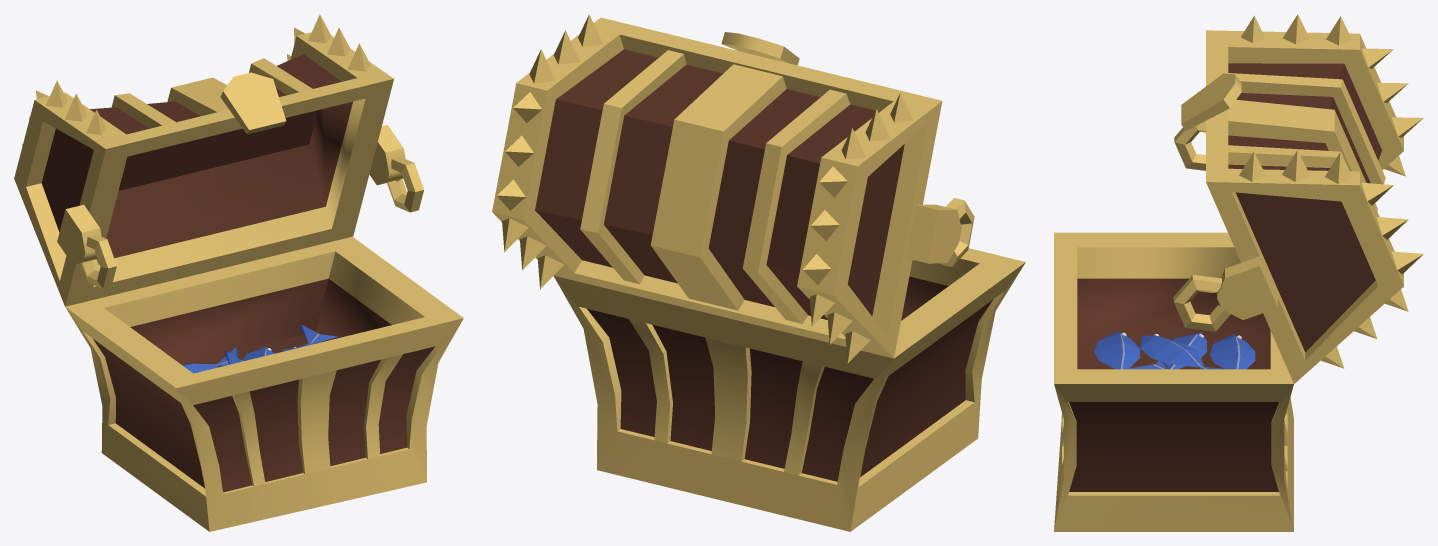
File: gold_chest_open.fbx
3 views of the same model, side by side, from view 1: azimuth 30°, elevation 25°; view 2: azimuth 150°, elevation 25°; view 3: azimuth 270°, elevation 25° (orthographic). The views are drawn at different scales.
Visible parts, largest first — view 1: gold_chest_up1; view 2: gold_chest_up1; view 3: gold_chest_up1.
Boxes of the visible parts, left/top/right/bottom form: gold_chest_up1: left=14, top=14, right=463, bottom=531; gold_chest_up1: left=492, top=14, right=1025, bottom=531; gold_chest_up1: left=1054, top=14, right=1423, bottom=531.
Bounding box in the file's own units: 9.01 × 9.83 × 8.24.
